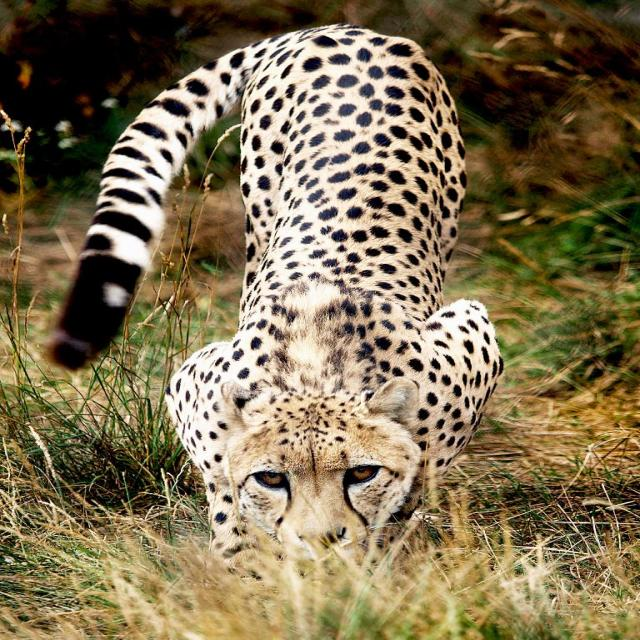Cheetah: (46, 19, 528, 574)
